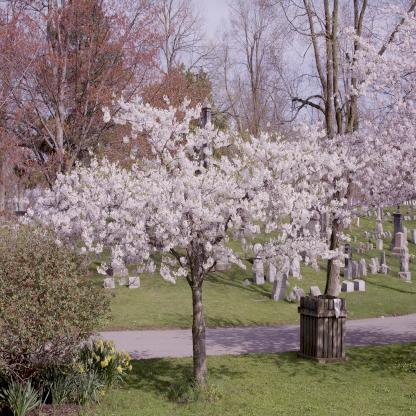Someiyoshino: (6, 87, 366, 290), (306, 1, 414, 239)
